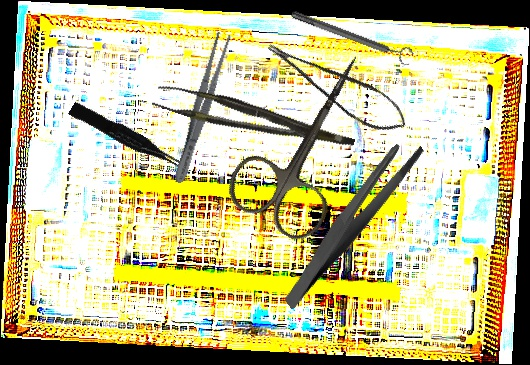Dressing Forceps: (250, 133, 453, 310), (169, 30, 234, 186)
Fixation Ring: (288, 3, 416, 69)
Iris Scissors: (218, 31, 403, 249)
Micro Scissor: (264, 20, 414, 147)
Tissue Forceps: (151, 73, 356, 171), (67, 96, 183, 177)
